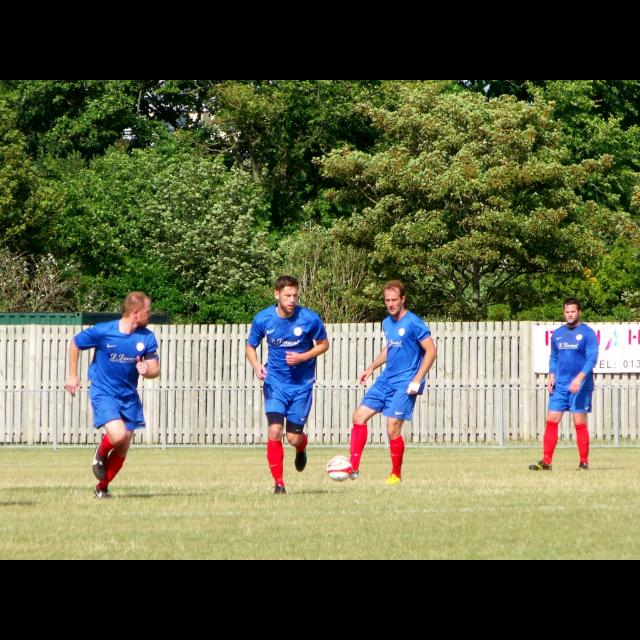Football: (326, 455, 350, 481)
